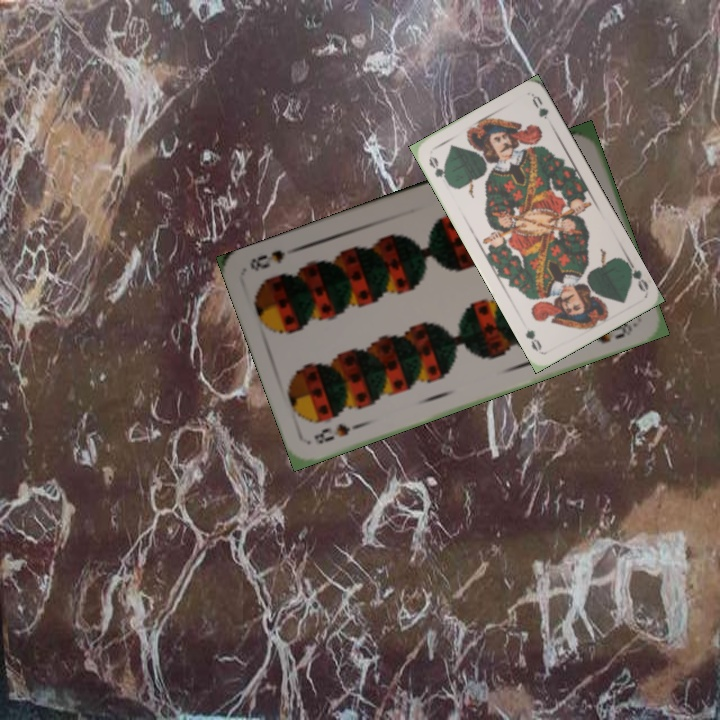GO: (621, 256, 651, 294), (424, 152, 452, 187)
S8: (309, 418, 366, 447)
